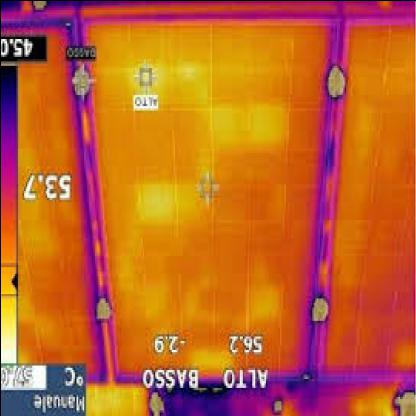Defects: (211, 105, 277, 143), (85, 382, 149, 415), (137, 182, 174, 222)
